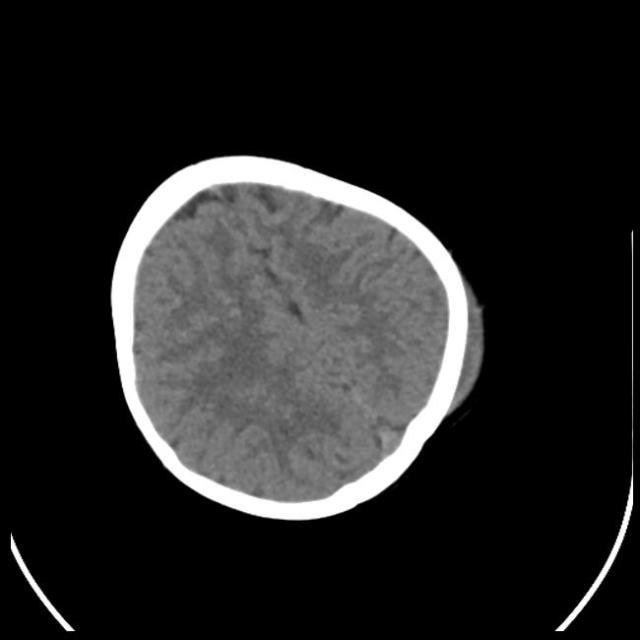lesion: (106, 148, 490, 524)
